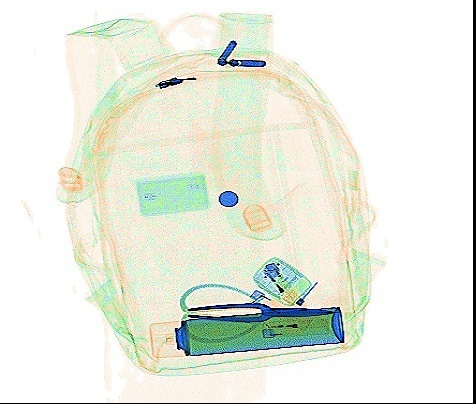lighter: (248, 286, 315, 333), (263, 259, 304, 311), (259, 317, 329, 339)
pressure: (147, 305, 343, 360)
scissors: (177, 281, 338, 343)
